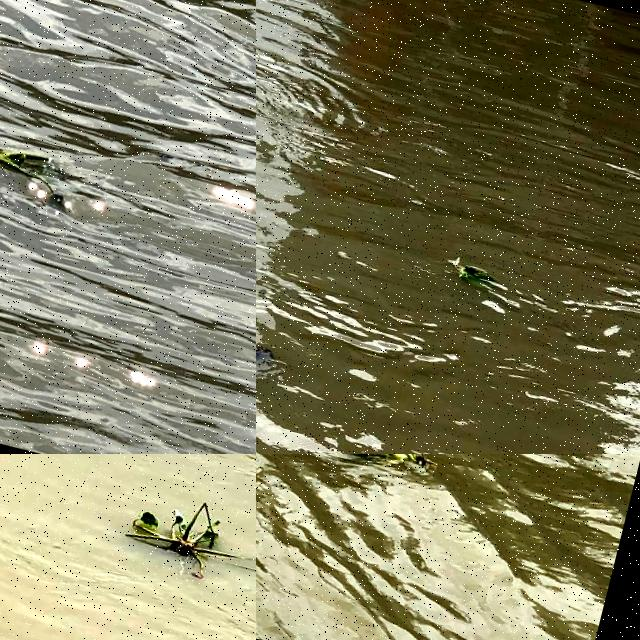water-hyacinth: (118, 483, 257, 601), (1, 119, 80, 219)
